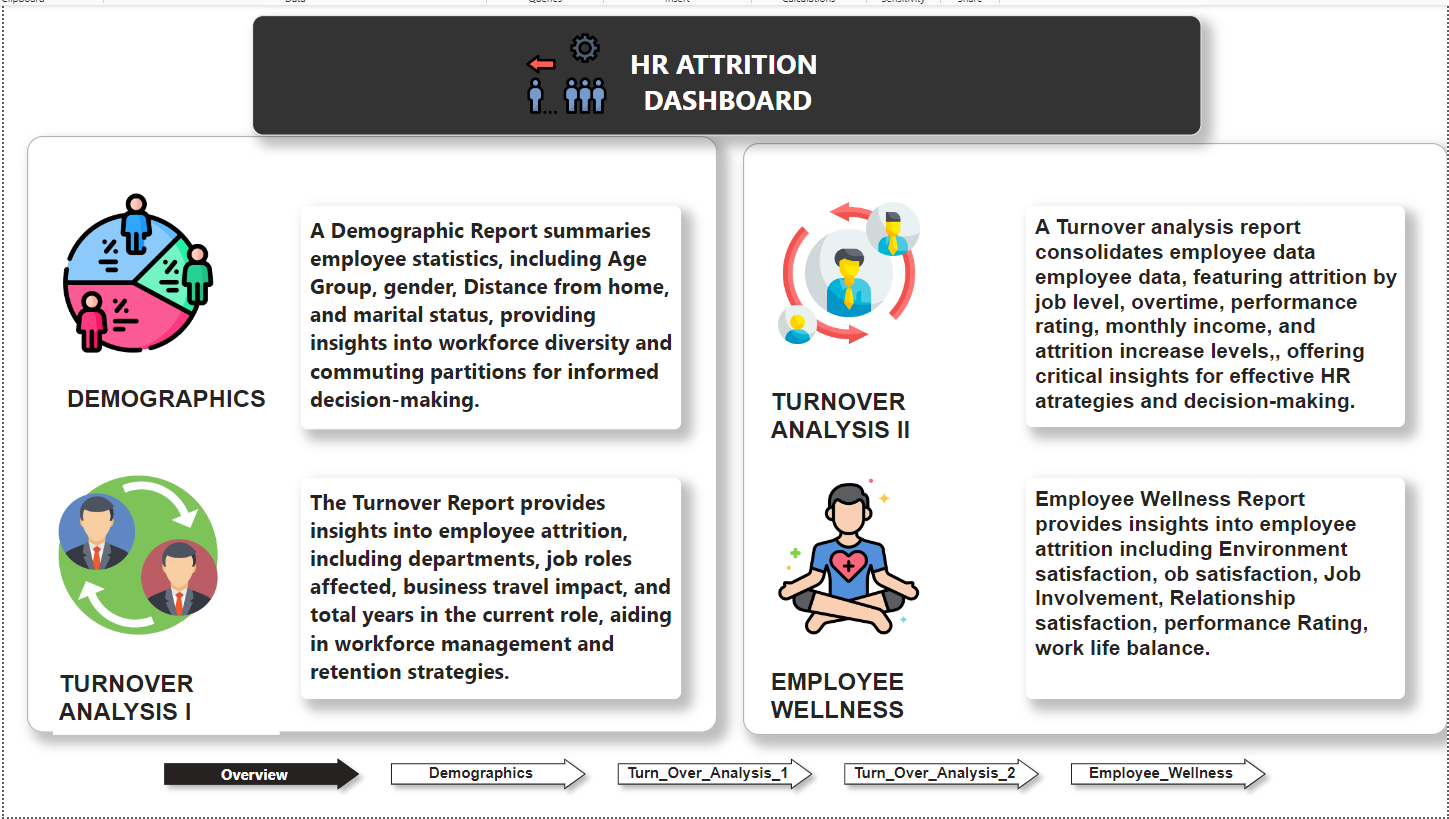

Layout of this report page (visuals, bound fields, positions):
{"tool":"powerbi","page":{"name":"Overview","canvas":[1280,720],"ordinal":0},"visuals":[{"type":"shape","box":[655.3,122.4,625.1,524.9],"z":0},{"type":"shape","box":[20.4,116.2,611.8,529.4],"z":1000},{"type":"textbox","box":[219.7,8.7,841.7,106.9],"z":2000},{"type":"image","box":[394.6,17.5,207,86.5],"z":3000},{"type":"image","box":[43.6,139.2,151,196.3],"z":4000},{"type":"textbox","box":[43.6,315.4,201.3,60.4],"z":5000},{"type":"image","box":[43.6,389.2,151,196.3],"z":6000},{"type":"textbox","box":[43.6,585.5,201.3,62.1],"z":7000},{"type":"textbox","box":[263.4,177.8,337.2,198],"z":8000},{"type":"textbox","box":[263.4,419.4,337.2,196.3],"z":9000},{"type":"image","box":[674.4,139.2,149.3,196.3],"z":10000},{"type":"textbox","box":[674.4,335.5,199.6,62.1],"z":11000},{"type":"image","box":[674.4,390.9,147.6,194.6],"z":12000},{"type":"textbox","box":[674.4,583.8,198,62.1],"z":13000},{"type":"textbox","box":[905.9,177.8,335.5,196.3],"z":14000},{"type":"textbox","box":[905.9,419.4,335.5,196.3],"z":15000},{"type":"pageNavigator","box":[133,658.8,998.4,46.1],"z":16000}]}

Visuals, with their boxes on the page's 1280x720 design canvas (x1, y1, x2, y2). These are canvas units, not pixel positions in the 1449x819 screenshot, which may show the page scaled, cropped or inside an application window:
shape: [655,122,1280,647]
shape: [20,116,632,646]
textbox: [220,9,1061,116]
image: [395,18,602,104]
image: [44,139,195,336]
textbox: [44,315,245,376]
image: [44,389,195,586]
textbox: [44,586,245,648]
textbox: [263,178,601,376]
textbox: [263,419,601,616]
image: [674,139,824,336]
textbox: [674,336,874,398]
image: [674,391,822,586]
textbox: [674,584,872,646]
textbox: [906,178,1241,374]
textbox: [906,419,1241,616]
pageNavigator: [133,659,1131,705]
